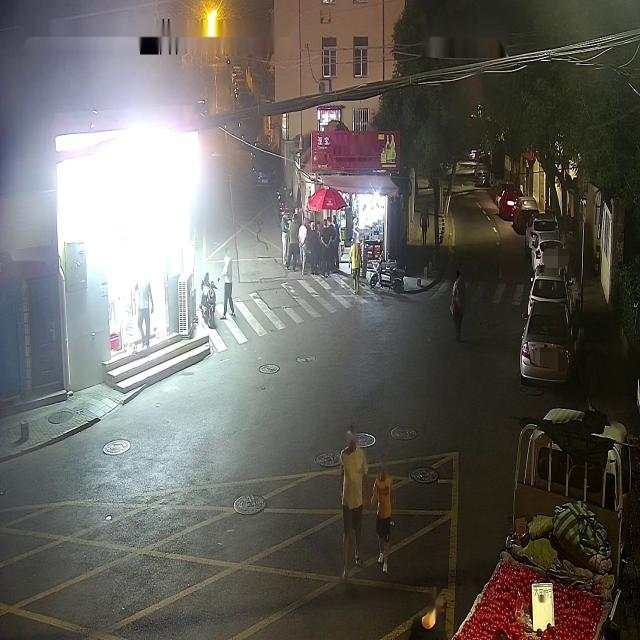car: (444, 399, 634, 634)
fixed_stall: (449, 534, 613, 635)
sunshade: (317, 171, 401, 198), (307, 188, 348, 220)
